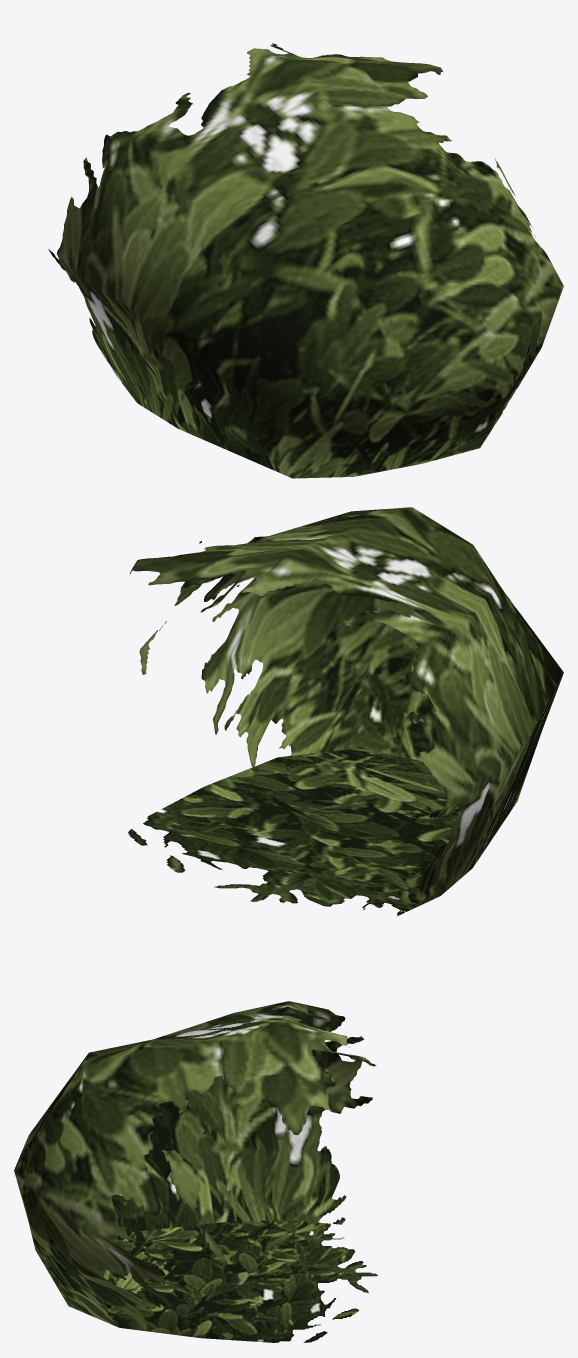
File: bush1.fbx
3 renders of one model, top to bottom at view 1: azimuth 30°, elevation 25°; view 2: azimuth 150°, elevation 25°; view 3: azimuth 270°, elevation 25°, orthographic. The views are drawn at different scales.
Parts seen in each view (by area): view 1: polySurface13; view 2: polySurface13; view 3: polySurface13.
Boxes of the visible parts, x1,y1,x2,y2 form: polySurface13: [48, 43, 563, 478]; polySurface13: [128, 507, 563, 915]; polySurface13: [14, 1001, 377, 1342].
Bounding box in the file's own units: 137 × 98.6 × 193.
